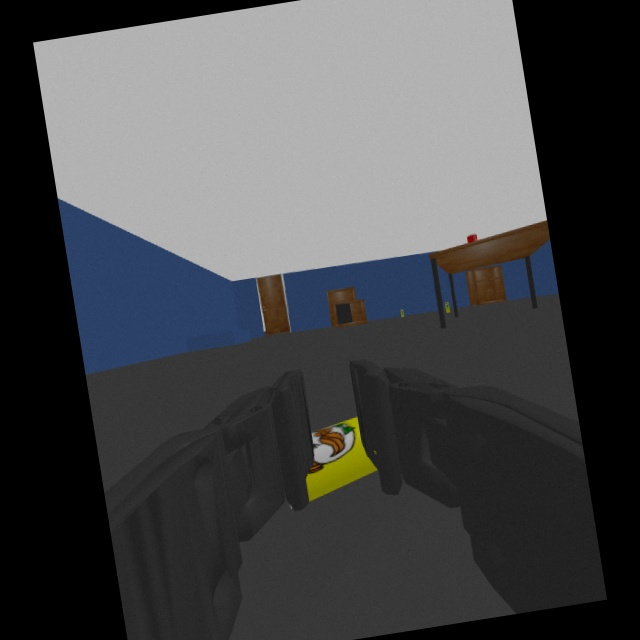chipsdose_gelb: (305, 416, 381, 502), (443, 300, 451, 314), (400, 307, 405, 317)
